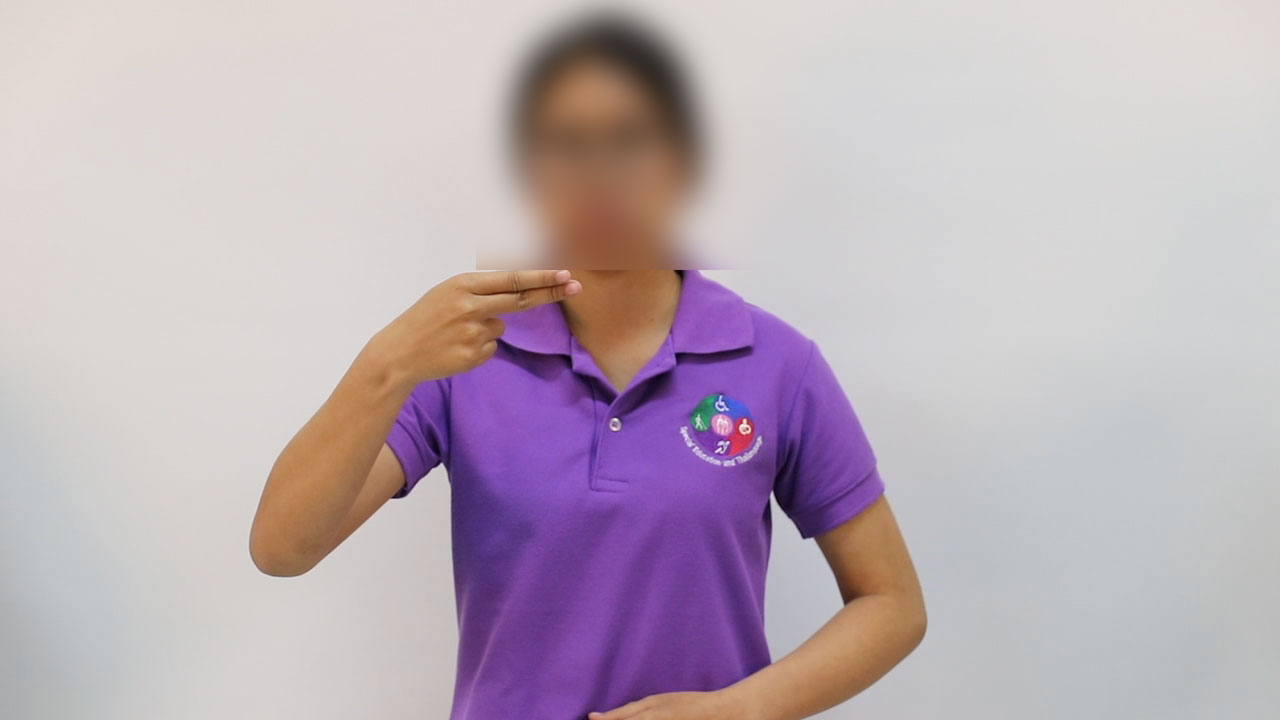hor: (357, 258, 596, 400)
